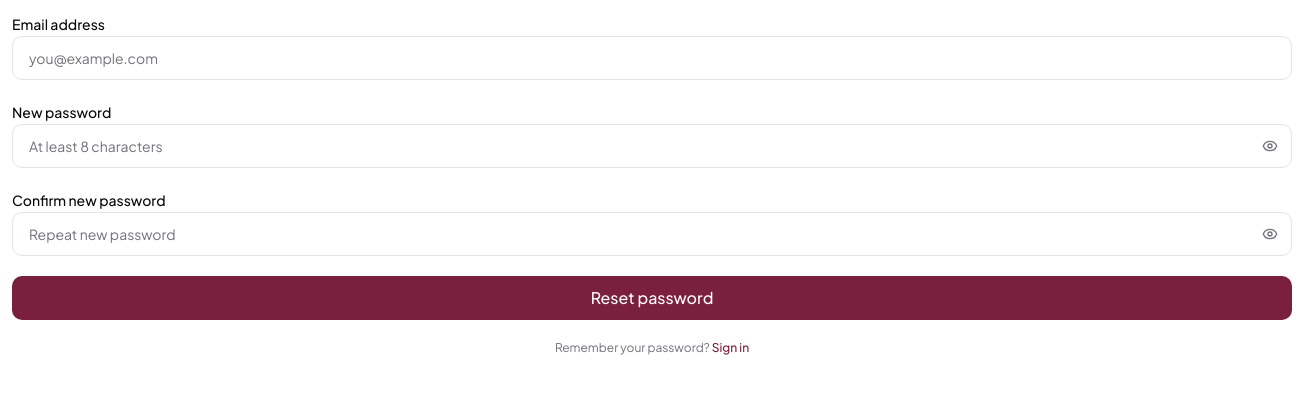
Scenario: ResetPasswordForm (F9.2) › validates that passwords match and meet minimum length
Type "alice@example.com" into the field labelled "Email address" at (652, 58), box top-left (12, 36), bottom-right (1292, 80)
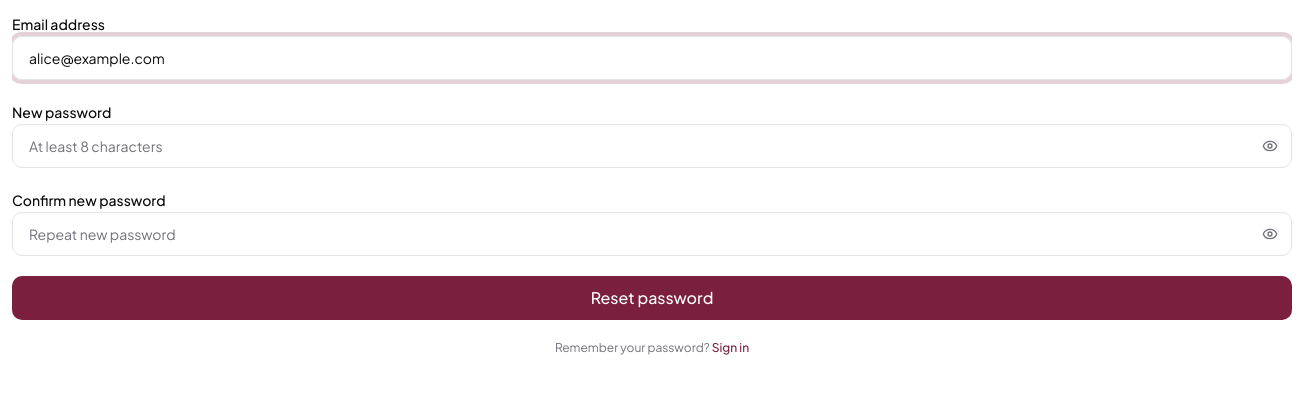
Type "short" into the password field labelled "New password" at (652, 146), box top-left (12, 124), bottom-right (1292, 168)
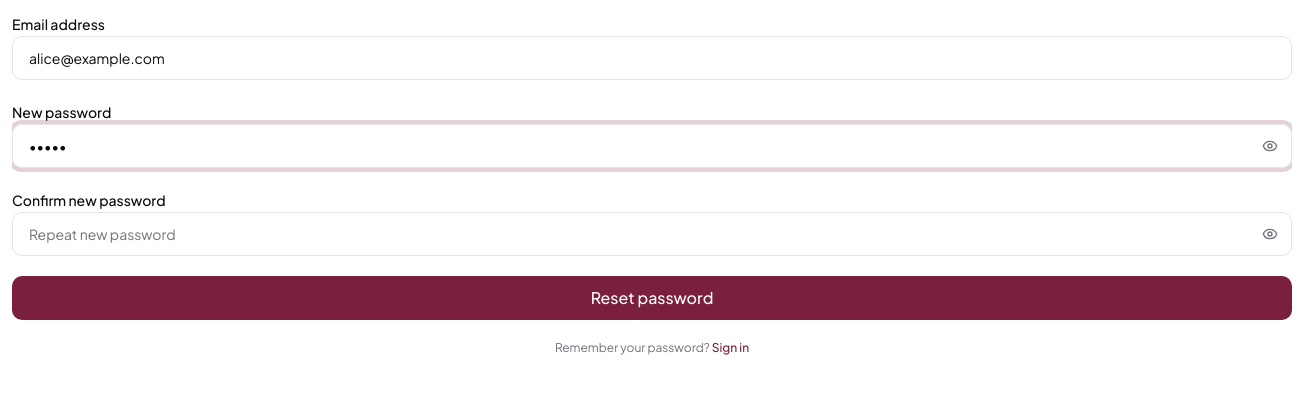
Type "mismatch" into the password field labelled "Confirm new password" at (652, 234), box top-left (12, 212), bottom-right (1292, 256)
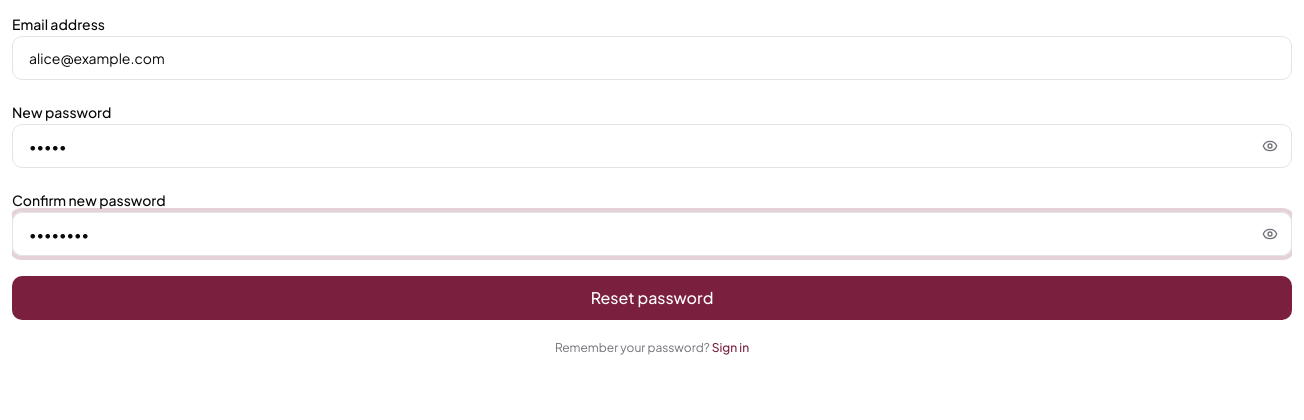
Click the button "Reset password" at (652, 298), box top-left (12, 276), bottom-right (1292, 320)
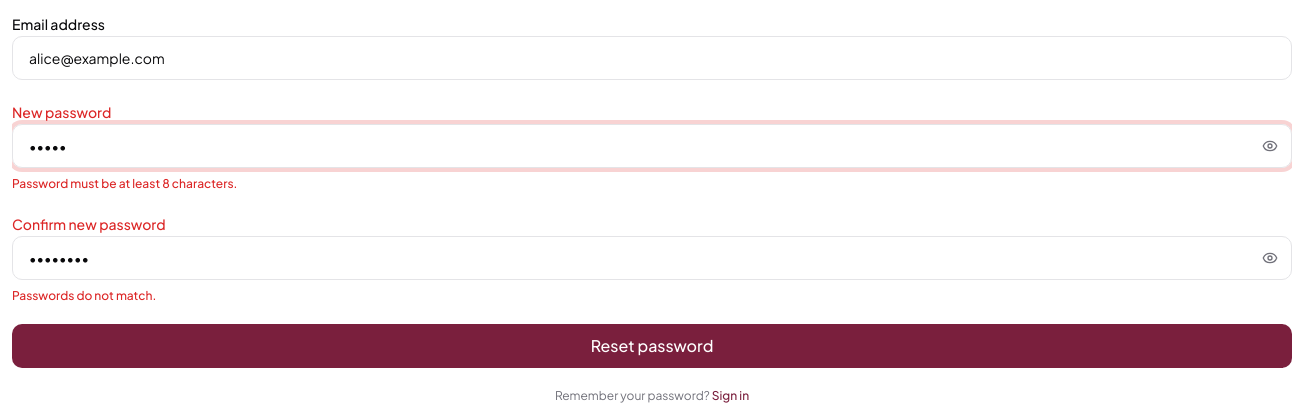
Check: the text "Password must be at least 8 characters." is shown, box top-left (12, 176), bottom-right (237, 191)
